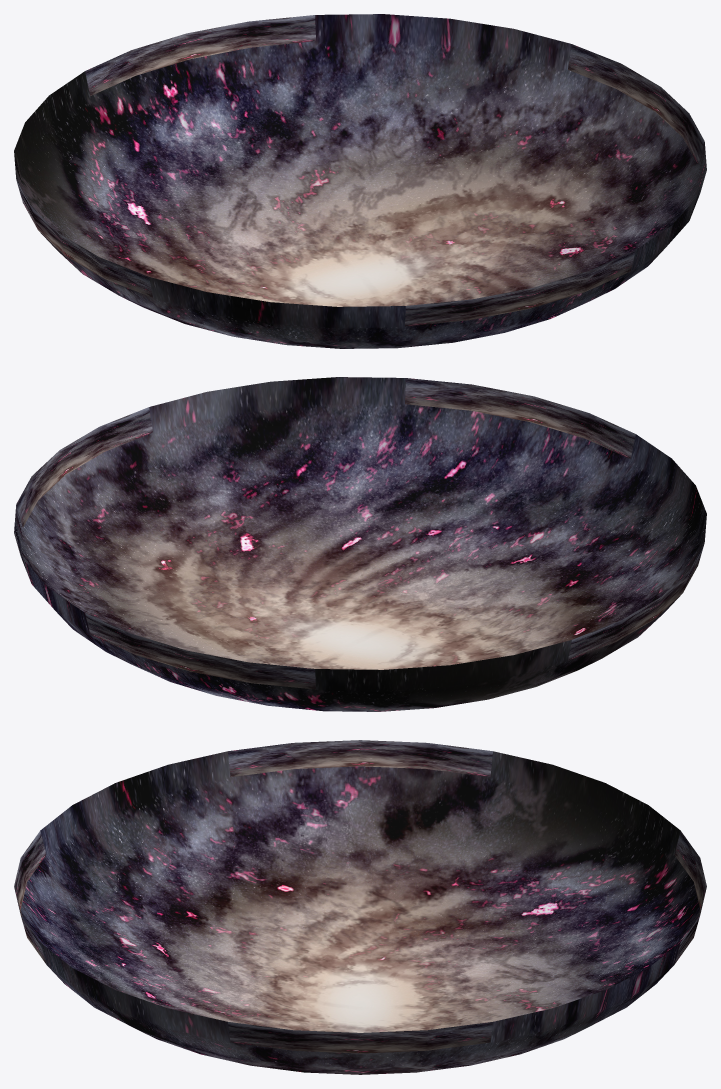
File: 吊顶球.FBX
The picture shows the model from 3 angles, top to bottom: view 1: azimuth 30°, elevation 25°; view 2: azimuth 150°, elevation 25°; view 3: azimuth 270°, elevation 25°; orthographic projection.
Visible parts, largest first — view 1: 对象002; view 2: 对象002; view 3: 对象002.
Part boxes in pixels (box(x1,y1,x2,y2)): 对象002: box(14, 14, 706, 348); 对象002: box(14, 377, 706, 711); 对象002: box(14, 740, 706, 1074).
Size of the model in its own units: 2.81 by 0.5362 by 2.81.
